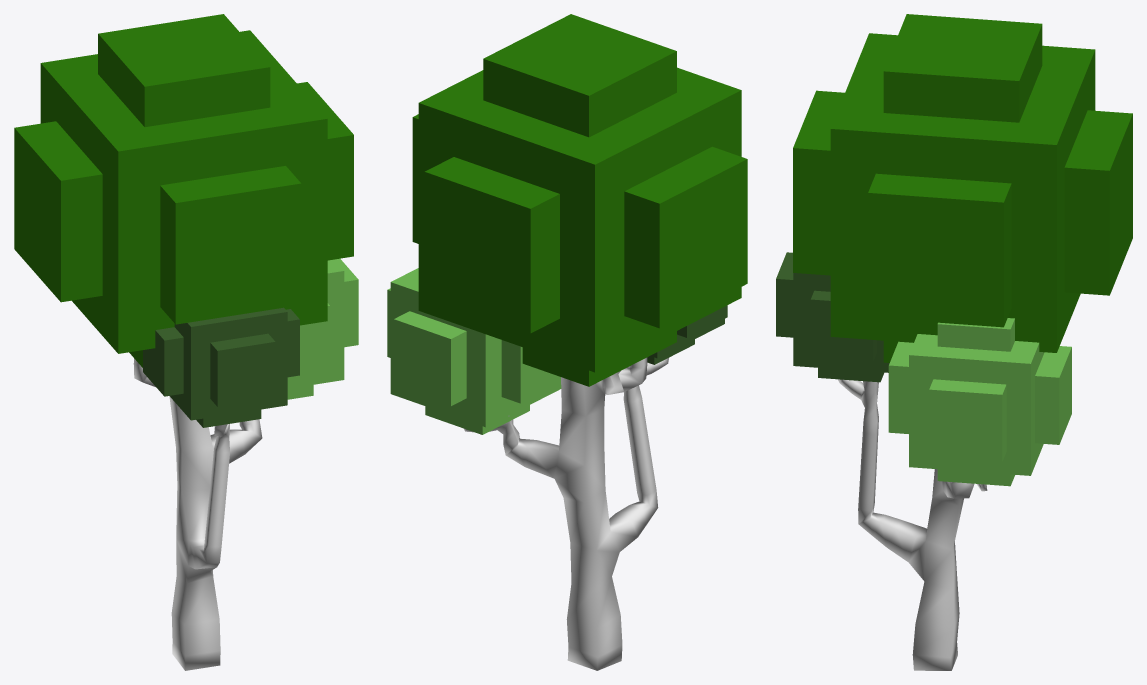
The model's file is Arvore.fbx.
The picture shows the model from 3 angles, left to right: view 1: azimuth 30°, elevation 25°; view 2: azimuth 150°, elevation 25°; view 3: azimuth 270°, elevation 25°; orthographic projection. The views are drawn at different scales.
Parts seen in each view (by area): view 1: Sphere.001, Sphere, Cube.004, Sphere.002; view 2: Sphere.001, Cube.004, Sphere.002, Sphere; view 3: Sphere.001, Sphere.002, Cube.004, Sphere.
Boxes of the visible parts, x1=… form: Sphere.001: x1=14, y1=14, x2=353, y2=367; Sphere: x1=143, y1=307, x2=299, y2=427; Cube.004: x1=133, y1=358, x2=262, y2=670; Sphere.002: x1=287, y1=258, x2=358, y2=399; Sphere.001: x1=412, y1=14, x2=747, y2=386; Cube.004: x1=464, y1=357, x2=668, y2=670; Sphere.002: x1=387, y1=268, x2=561, y2=434; Sphere: x1=647, y1=305, x2=727, y2=364; Sphere.001: x1=793, y1=14, x2=1132, y2=362; Sphere.002: x1=888, y1=318, x2=1071, y2=486; Cube.004: x1=838, y1=379, x2=987, y2=670; Sphere: x1=776, y1=252, x2=889, y2=382.
Bounding box in the file's own units: 230 × 424 × 222.
